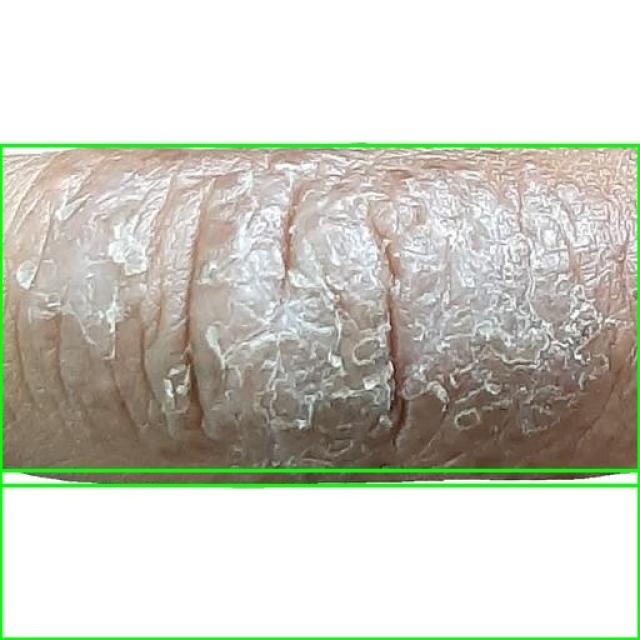Eczema: (0, 145, 639, 485), (0, 470, 639, 639)
